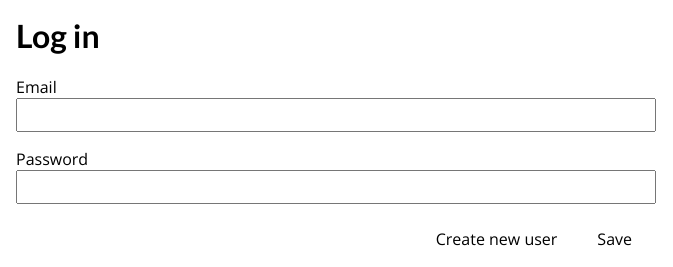
Auth component › changes mode on link click
The image size is (673, 267).
Note: Click on the link to change mode
Click the link "Create new user": (497, 239) [436,228,557,250]
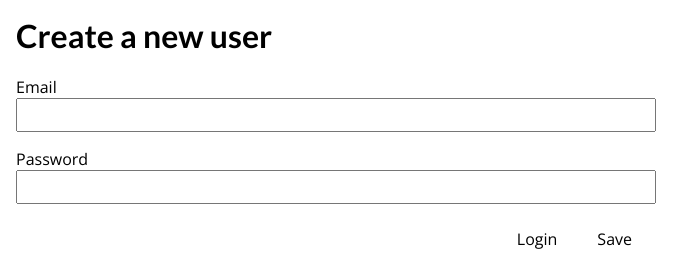
Now the heading "Create a new user" is shown, box [16,16,272,55]
